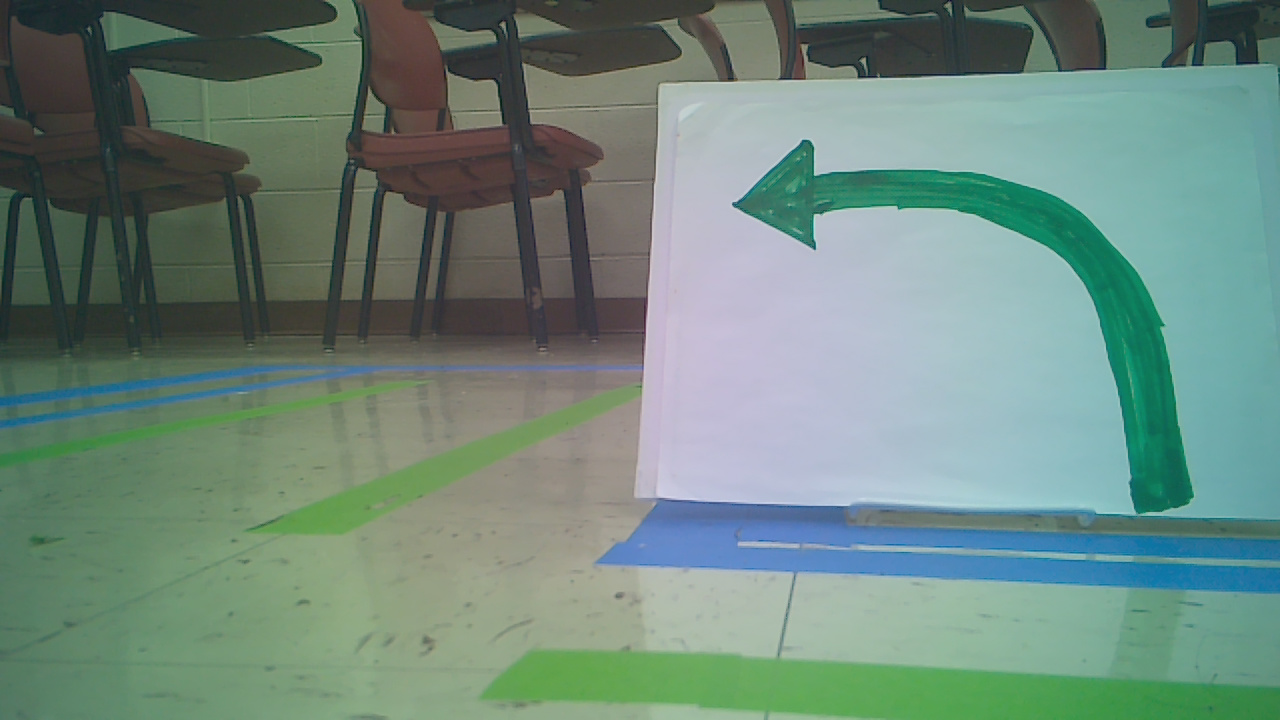greenline: (253, 372, 642, 532), (489, 648, 1269, 720), (5, 374, 414, 470)
left: (714, 135, 1200, 517)
